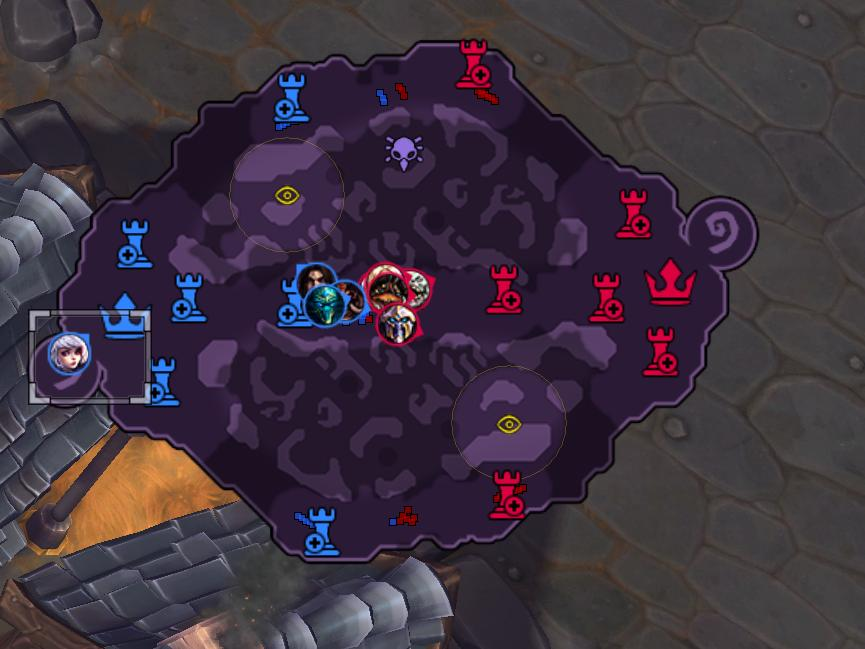blue nexus: (98, 292, 149, 338)
blue player: (45, 328, 95, 375), (303, 284, 352, 331), (290, 259, 339, 306), (322, 279, 371, 326)
blue tower: (140, 348, 184, 412), (113, 213, 157, 273), (167, 267, 210, 323), (301, 504, 342, 562), (271, 71, 311, 125)
red nexus: (641, 254, 699, 308), (485, 263, 523, 316)
red player: (375, 302, 422, 347), (363, 262, 410, 307), (403, 270, 432, 309)
red tower: (638, 323, 684, 381), (452, 38, 495, 93), (614, 187, 652, 239), (489, 469, 528, 519), (588, 271, 625, 323)
